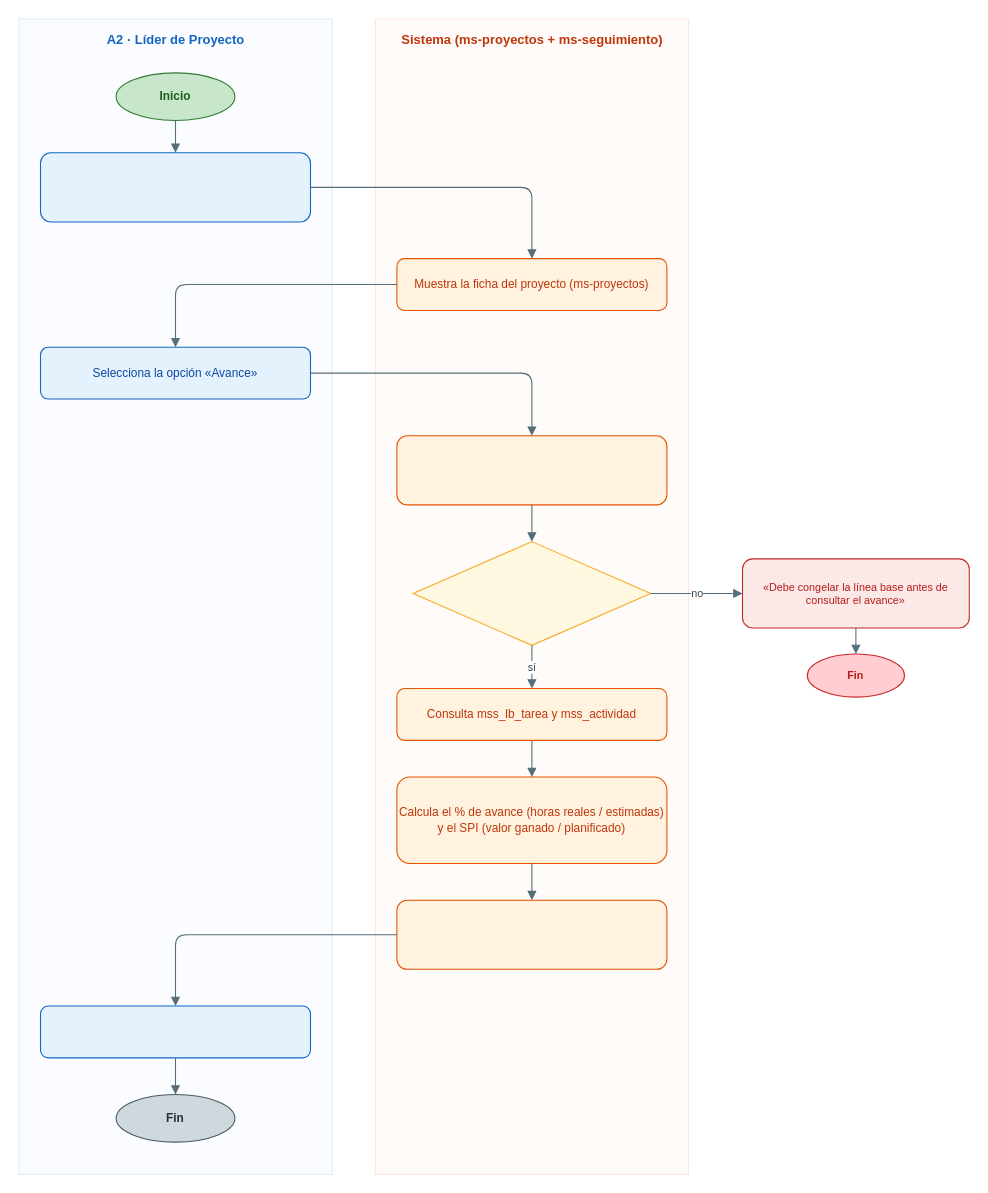
The diagram is 988 pixels wide and 1193 high, and some of its shapes have lost their labels. Here are the shapes that lost their labels. From the top down, the centre of each, then its label:
the point at 174,187: Accede al módulo «Proyectos» y selecciona un proyecto
the point at 531,470: Consulta mss_linea_base del proyecto (ms-seguimiento)
the point at 531,593: ¿La línea base está congelada?
the point at 531,934: Renderiza el gráfico planificado vs ejecutado y la tabla por tarea
the point at 174,1031: Visualiza el avance del proyecto y el SPI
